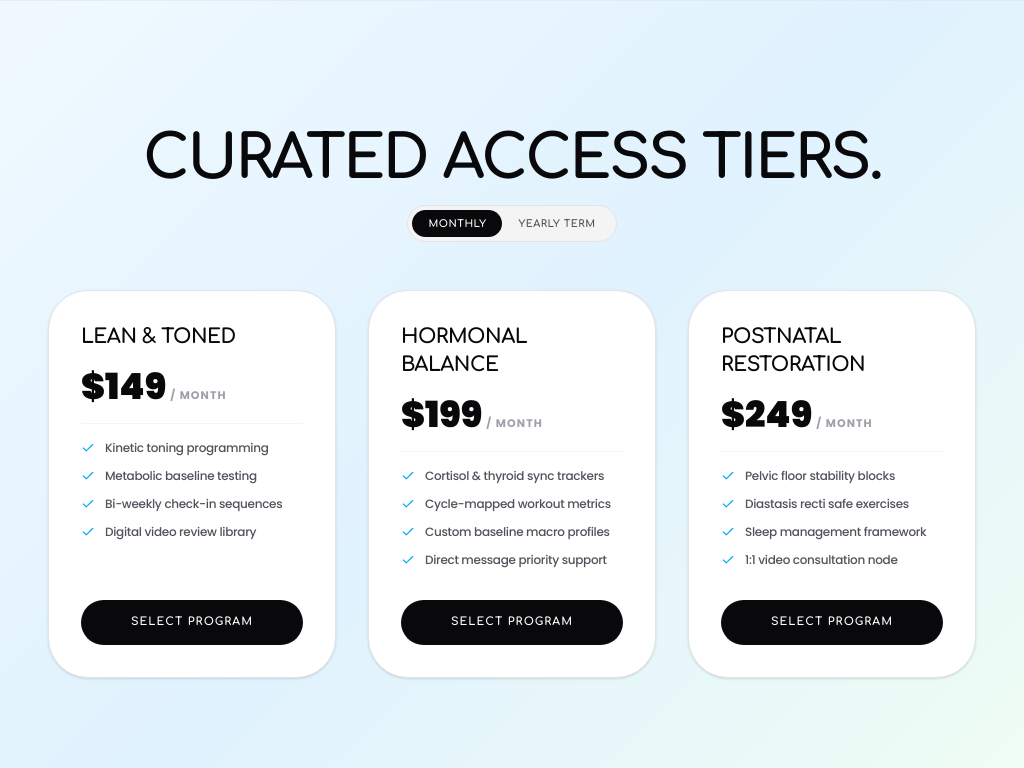
Fitpulse Fitness Platform UI Validation Suite › Pricing Curated Access Tiers › should recalculate pricing parameters immediately when a user clicks the yearly toggle option
What coordinates should you click on to do the following:
click the button "Yearly Term"
I would click on:
 (557, 224)
Its box is [502,210,612,237].
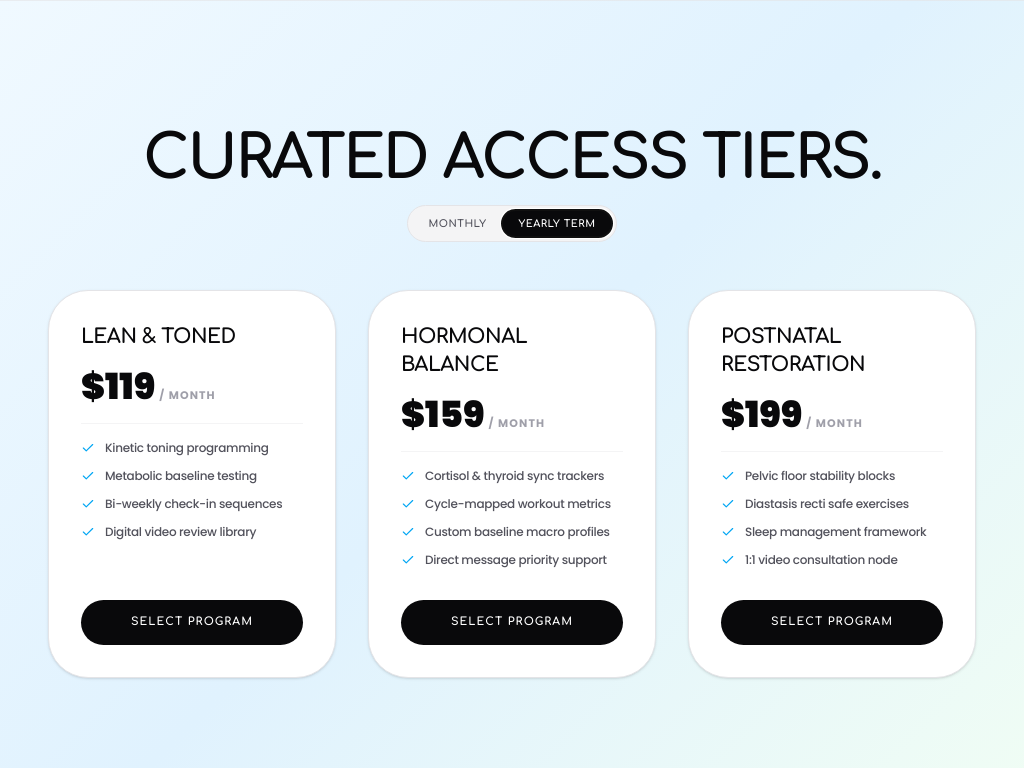
Check: the text "$119" is shown, box [81,367,155,407]
Check: the text "$149" is gone
